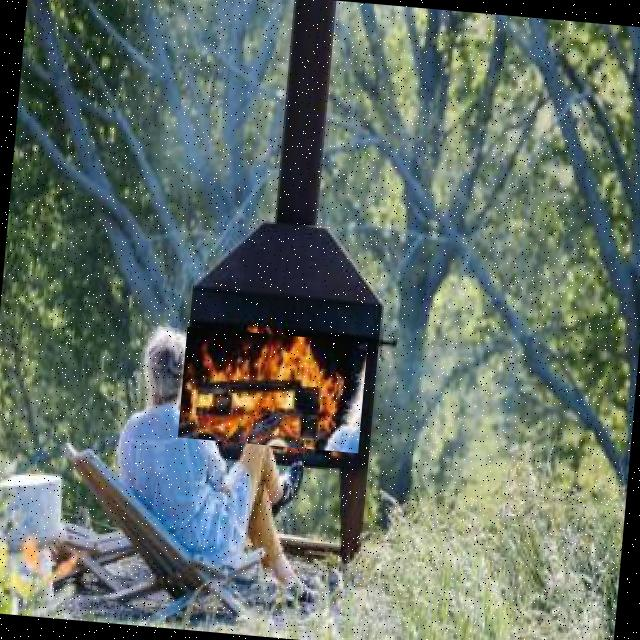fire: (178, 327, 368, 452)
